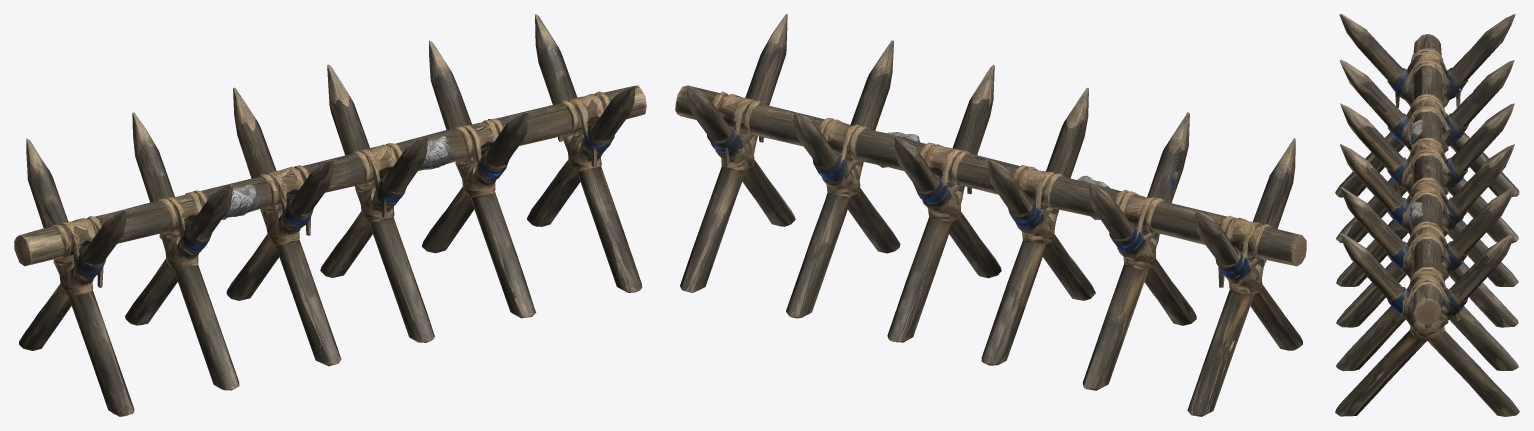
The picture shows the model from 3 angles, left to right: view 1: azimuth 30°, elevation 25°; view 2: azimuth 150°, elevation 25°; view 3: azimuth 270°, elevation 25°; orthographic projection. The views are drawn at different scales.
Visible parts, largest first — view 1: steppe_palisade; view 2: steppe_palisade; view 3: steppe_palisade.
Part boxes in pixels (<box>): steppe_palisade: <box>14,14,646,416</box>; steppe_palisade: <box>675,14,1306,416</box>; steppe_palisade: <box>1335,14,1519,416</box>.
Bounding box in the file's own units: 1.9 × 0.6023 × 0.5576.
Materials: 1 (1 with a texture image).
